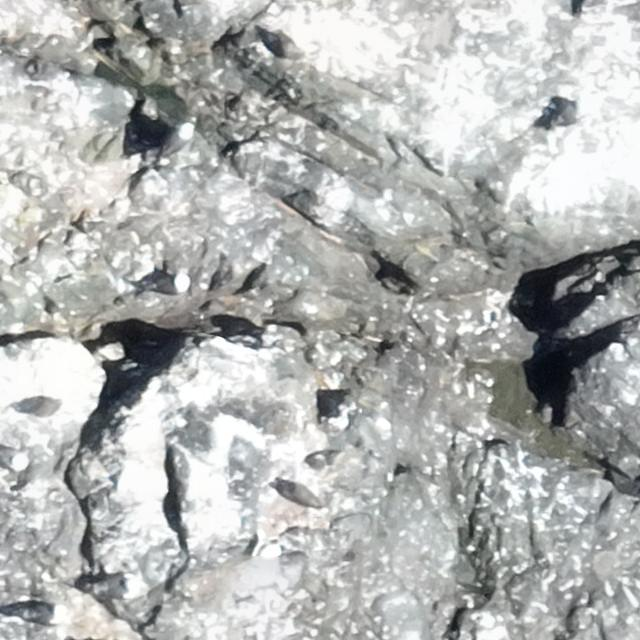umineko: (82, 572, 146, 600), (15, 596, 74, 626), (272, 30, 318, 63), (10, 394, 75, 416), (552, 95, 594, 129), (156, 124, 194, 156), (146, 275, 186, 293), (0, 446, 22, 465)
